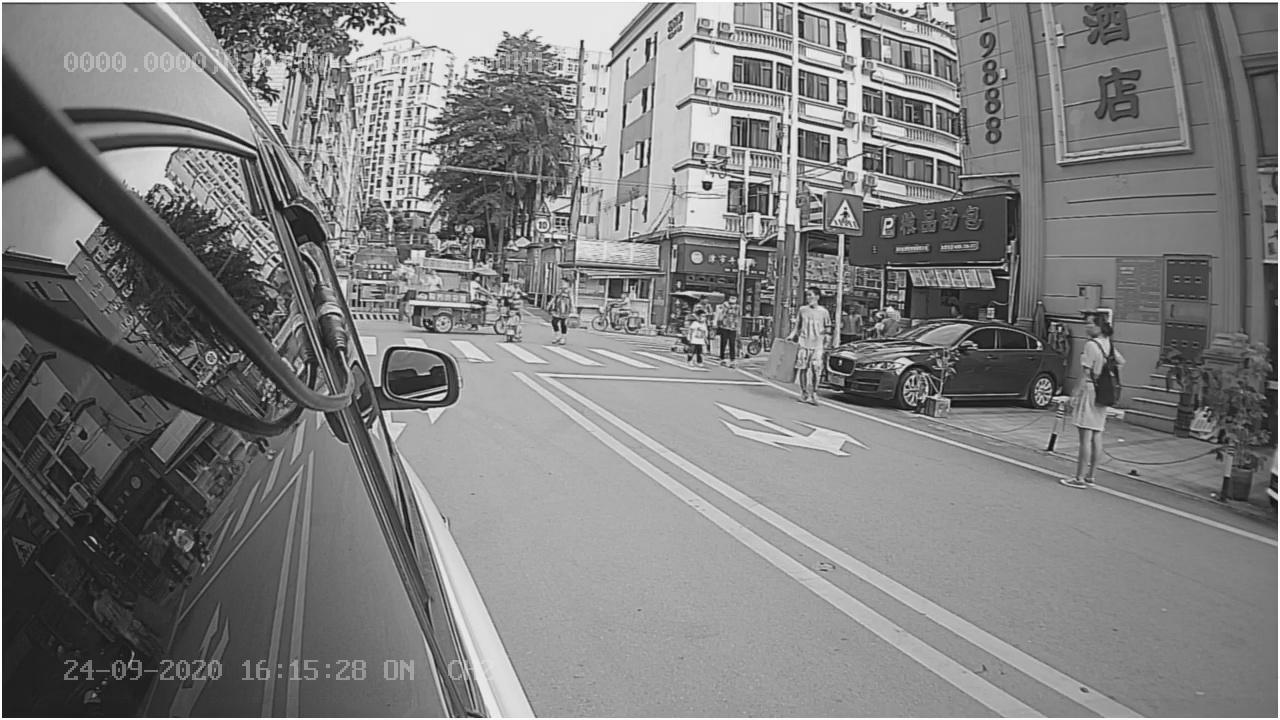person: (1042, 305, 1132, 498)
